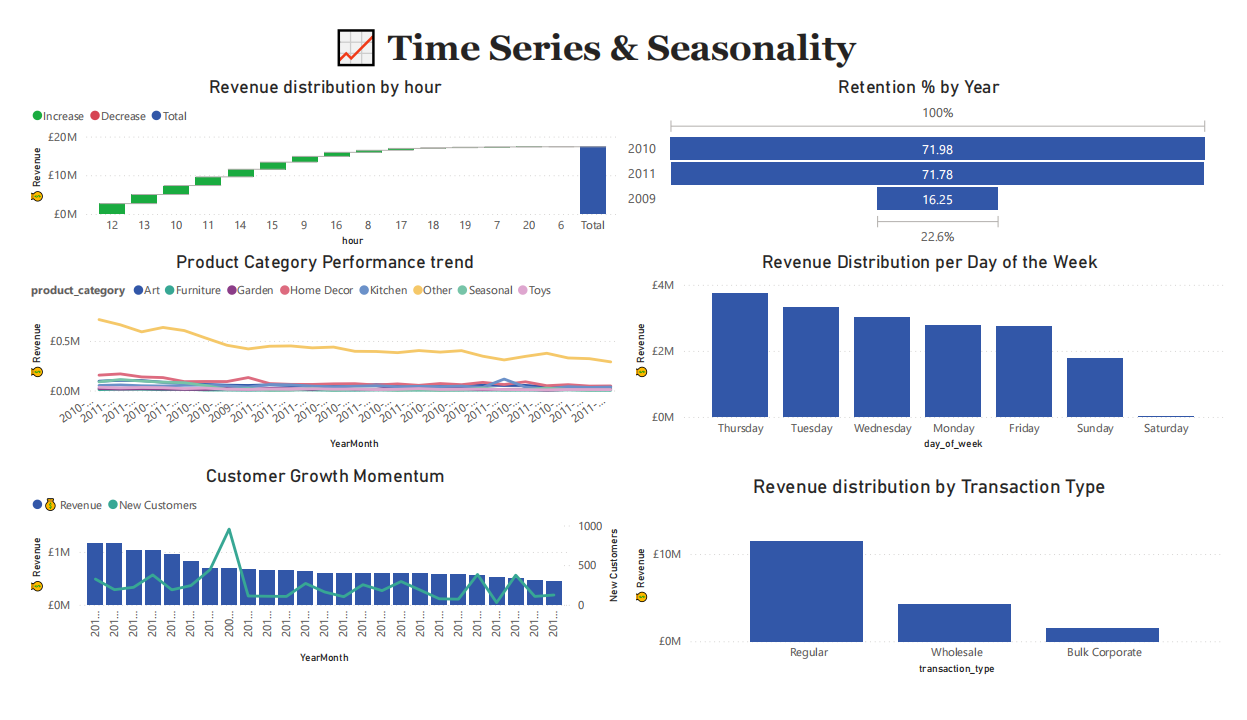

Layout of this report page (visuals, bound fields, positions):
{"tool":"powerbi","page":{"name":"Time Series & Seasonality","canvas":[1280,720],"ordinal":6},"visuals":[{"type":"textbox","box":[326.9,0,579,61.8],"z":0},{"type":"funnel","fields":{"Category":["Calendar.Year"],"Y":["Calendar.Retention %"]},"box":[640,61.7,625,185],"z":1000},{"type":"waterfallChart","title":"Revenue  distribution by hour","fields":{"Category":["fact_transactions.hour"],"Y":["Calendar.💰 Revenue"]},"box":[8.3,61.7,631.7,185],"z":2000},{"type":"lineChart","title":"Product Category Performance trend","fields":{"Y":["Calendar.💰 Revenue"],"Category":["Calendar.YearMonth"],"Series":["dim_product.product_category"]},"box":[8.3,246.7,631.7,215],"z":3000},{"type":"clusteredColumnChart","title":"Revenue Distribution per Day of the Week","fields":{"Y":["Calendar.💰 Revenue"],"Category":["fact_transactions.day_of_week"]},"box":[648.3,246.7,631.7,215],"z":4000},{"type":"lineClusteredColumnComboChart","title":"Customer Growth Momentum","fields":{"Y":["Calendar.💰 Revenue"],"Category":["Calendar.YearMonth"],"Y2":["Calendar.New Customers"]},"box":[8,473.5,632,215],"z":5000},{"type":"clusteredColumnChart","title":"Revenue  distribution by Transaction Type","fields":{"Y":["Calendar.💰 Revenue"],"Category":["fact_transactions.transaction_type"]},"box":[648.3,485,631.7,215],"z":6000}]}

Visuals, with their boxes in screenshot pixels (x1, y1, x2, y2), scaled from the page's 1280x720 canvas onto the 1247x720 screenshot:
textbox: bbox=(318, 0, 883, 62)
funnel - Calendar.Year x Calendar.Retention %: bbox=(624, 62, 1232, 247)
"Revenue  distribution by hour" waterfallChart: bbox=(8, 62, 624, 247)
"Product Category Performance trend" lineChart: bbox=(8, 247, 624, 462)
"Revenue Distribution per Day of the Week" clusteredColumnChart: bbox=(632, 247, 1246, 462)
"Customer Growth Momentum" lineClusteredColumnComboChart: bbox=(8, 474, 624, 688)
"Revenue  distribution by Transaction Type" clusteredColumnChart: bbox=(632, 485, 1246, 700)
